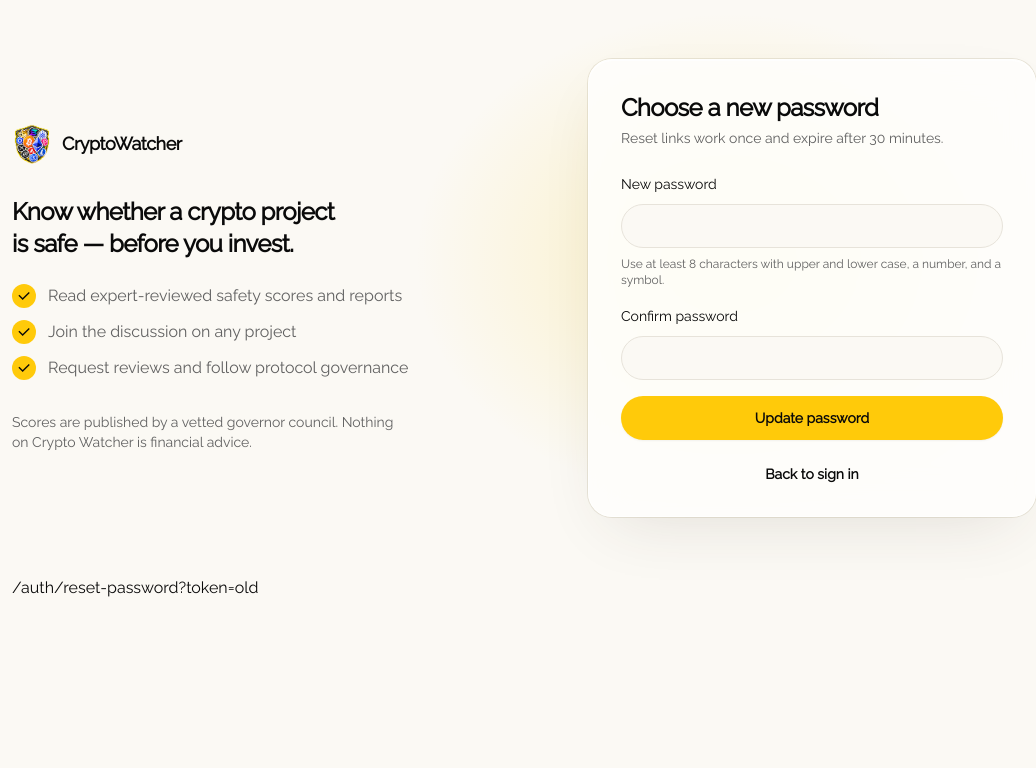
Test: ResetPasswordPage › explains an expired link and offers a new one
The width and height of the screenshot is (1036, 768).
Type "Correct-Horse-42!" into the password field labelled "New password". click: (812, 226)
box: x1=621 y1=204 x2=1003 y2=248
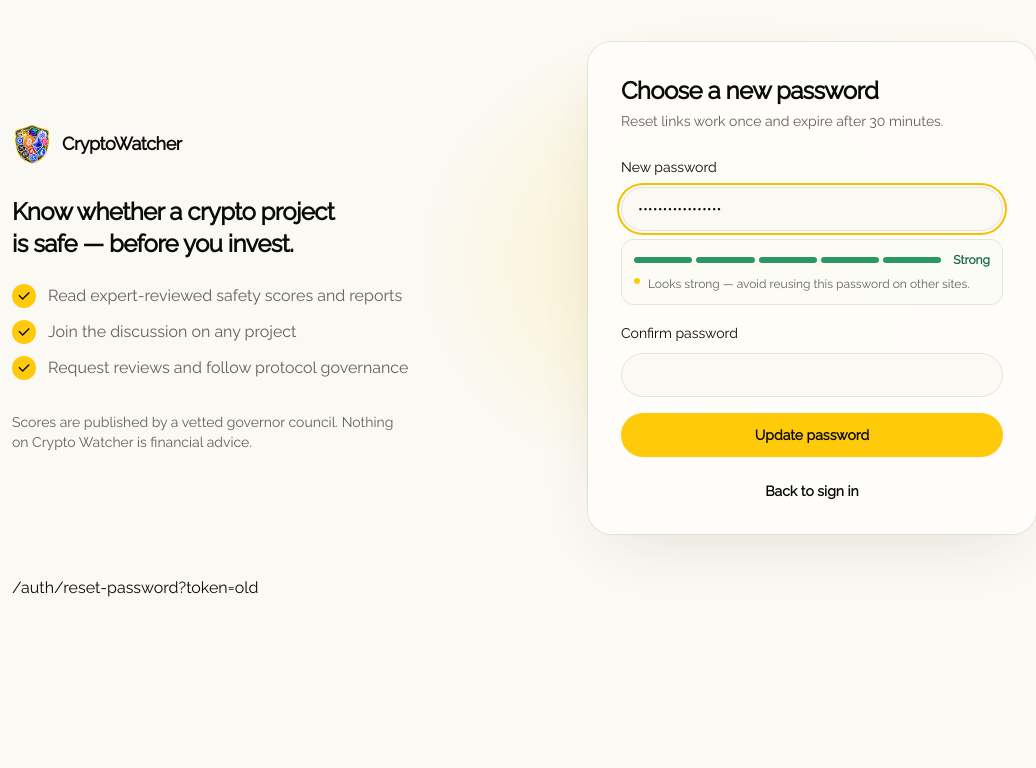
Type "Correct-Horse-42!" into the password field labelled "Confirm password". click: (812, 375)
box: x1=621 y1=353 x2=1003 y2=397
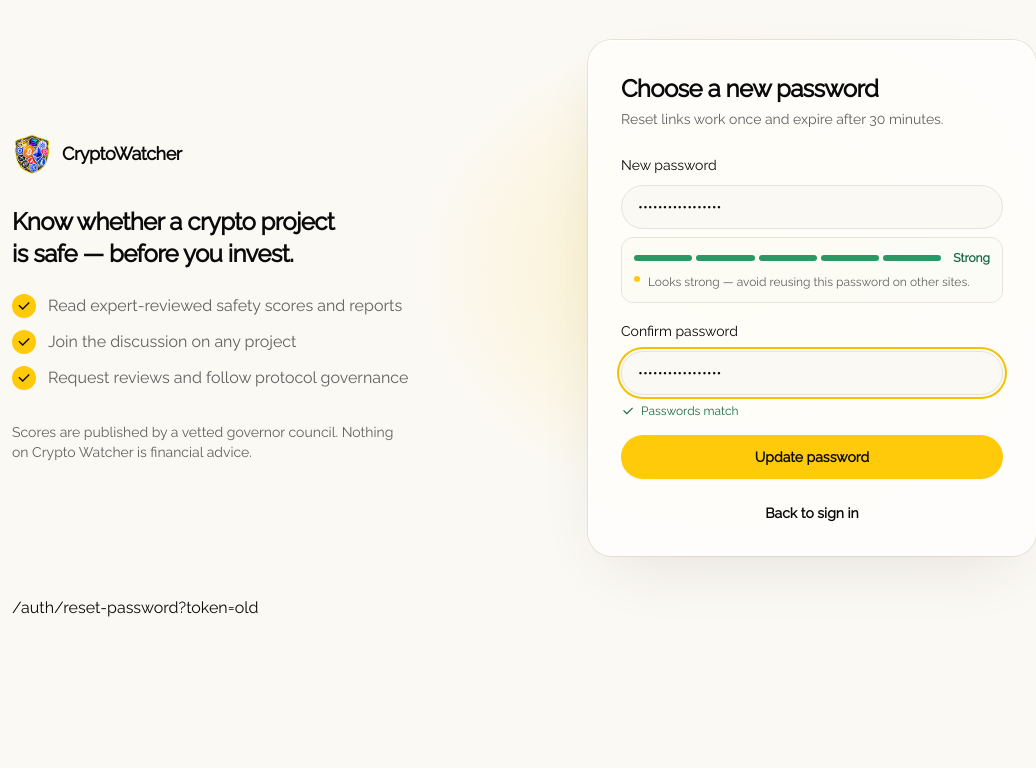
Click the button "Update password". click: (812, 457)
box: x1=621 y1=435 x2=1003 y2=479
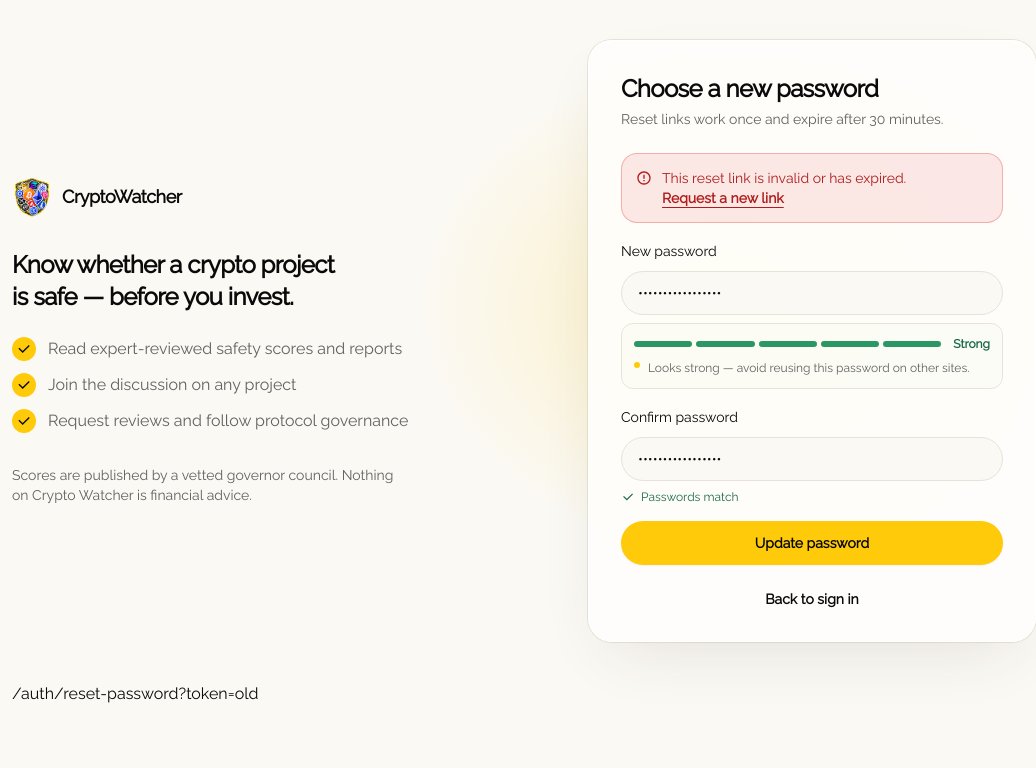
Check: the message shows "This reset link is invalid or has expired.", box x1=662 y1=170 x2=906 y2=186
Check: the link "Request a new link" is shown, box x1=662 y1=190 x2=784 y2=206
